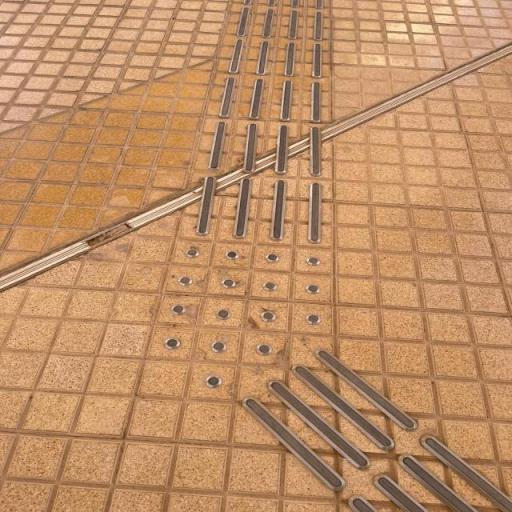dot: (136, 242, 335, 398)
line: (243, 343, 419, 492), (337, 428, 511, 511), (197, 174, 321, 245), (209, 121, 324, 175), (219, 77, 323, 121)
